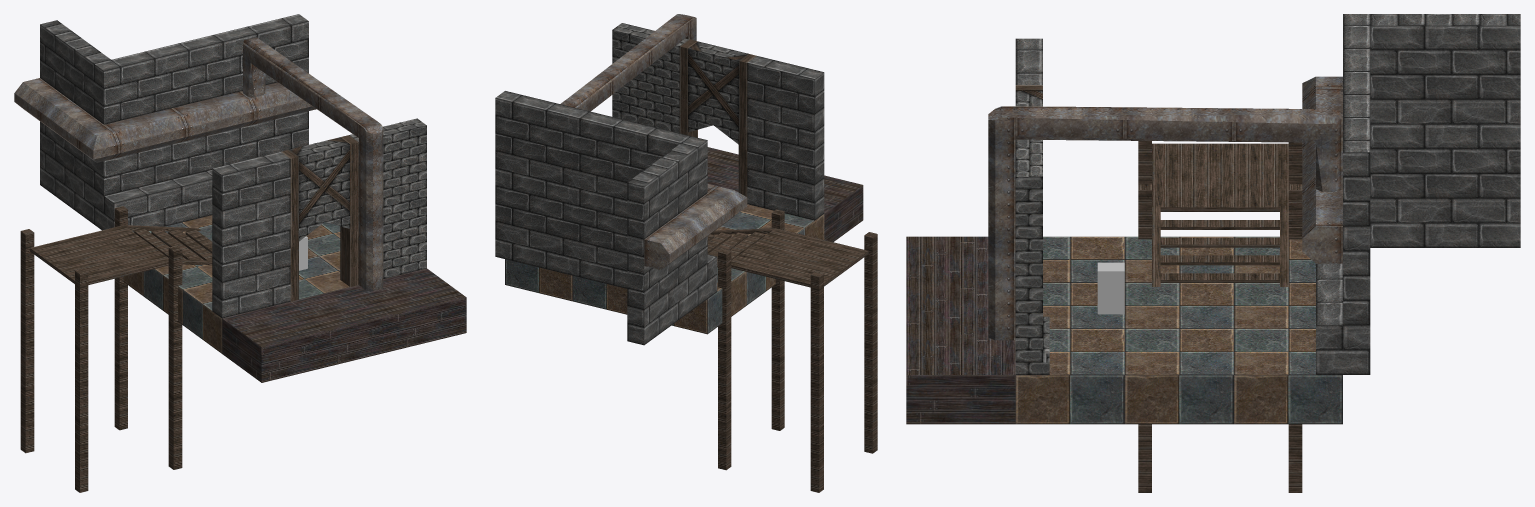
The model's file is test_level.obj.
3 views of the same model, side by side, from view 1: azimuth 30°, elevation 25°; view 2: azimuth 150°, elevation 25°; view 3: azimuth 270°, elevation 25° (orthographic). The views are drawn at different scales.
Visible parts, largest first — view 1: entity2_brush1, entity2_brush13, entity2_brush4, entity2_brush2, entity2_brush0, entity2_brush3, entity0_brush12, entity0_brush0, entity0_brush11, entity0_brush19, entity0_brush13, entity0_brush8 (+11 smaller); view 2: entity2_brush1, entity2_brush4, entity2_brush2, entity2_brush0, entity2_brush3, entity0_brush0, entity0_brush18, entity2_brush13, entity0_brush13, entity0_brush8, entity0_brush7, entity0_brush9 (+6 smaller); view 3: entity2_brush0, entity2_brush2, entity2_brush13, entity0_brush13, entity2_brush1, entity0_brush0, entity2_brush3, entity0_brush19, entity0_brush12, entity0_brush11, entity0_brush9, entity0_brush10 (+9 smaller).
Boxes of the visible parts, box(x1,y1,x2,y2) form: entity2_brush1: box(94, 14, 308, 230); entity2_brush13: box(222, 268, 466, 382); entity2_brush4: box(212, 151, 290, 318); entity2_brush2: box(40, 20, 110, 224); entity2_brush0: box(123, 215, 349, 353); entity2_brush3: box(349, 118, 426, 278); entity0_brush12: box(104, 82, 316, 158); entity0_brush0: box(30, 225, 168, 284); entity0_brush11: box(104, 170, 212, 232); entity0_brush19: box(359, 120, 383, 291); entity0_brush13: box(248, 40, 375, 137); entity0_brush8: box(20, 229, 34, 453); entity2_brush1: box(495, 91, 707, 305); entity2_brush4: box(747, 56, 824, 220); entity2_brush2: box(627, 143, 697, 345); entity2_brush0: box(505, 204, 824, 334); entity2_brush3: box(612, 23, 688, 133); entity0_brush0: box(731, 228, 868, 287); entity0_brush18: box(644, 193, 732, 269); entity2_brush13: box(707, 147, 863, 242); entity0_brush13: box(567, 17, 689, 111); entity0_brush8: box(810, 271, 823, 492); entity0_brush7: box(864, 232, 877, 453); entity0_brush9: box(718, 248, 731, 470); entity2_brush0: box(1015, 236, 1342, 424); entity2_brush2: box(1370, 14, 1520, 247); entity2_brush13: box(906, 236, 1015, 424); entity0_brush13: box(1015, 106, 1322, 142); entity2_brush1: box(1343, 14, 1370, 374); entity0_brush0: box(1152, 143, 1288, 211); entity2_brush3: box(1015, 139, 1042, 374); entity0_brush19: box(988, 106, 1015, 340); entity0_brush12: box(1302, 88, 1342, 263); entity0_brush11: box(1316, 263, 1342, 374); entity0_brush9: box(1288, 184, 1302, 492); entity0_brush10: box(1138, 184, 1151, 492).
Bounding box in the file's own units: 568 × 616 × 720.
